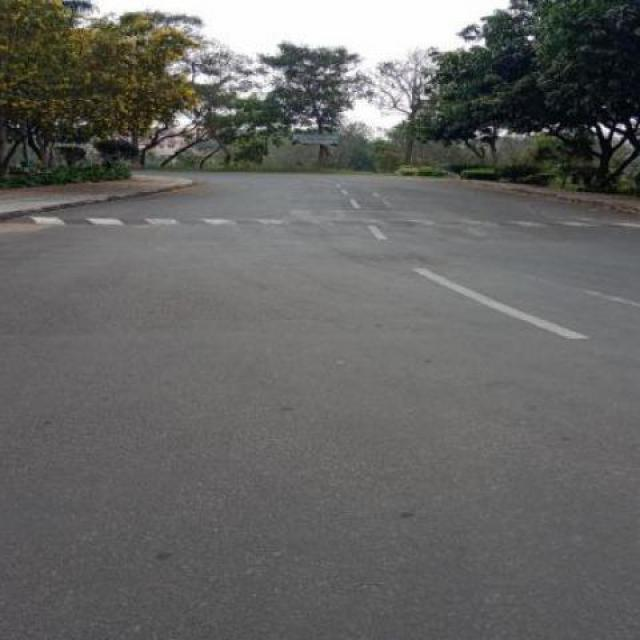Speed Bump: (8, 214, 639, 234)
